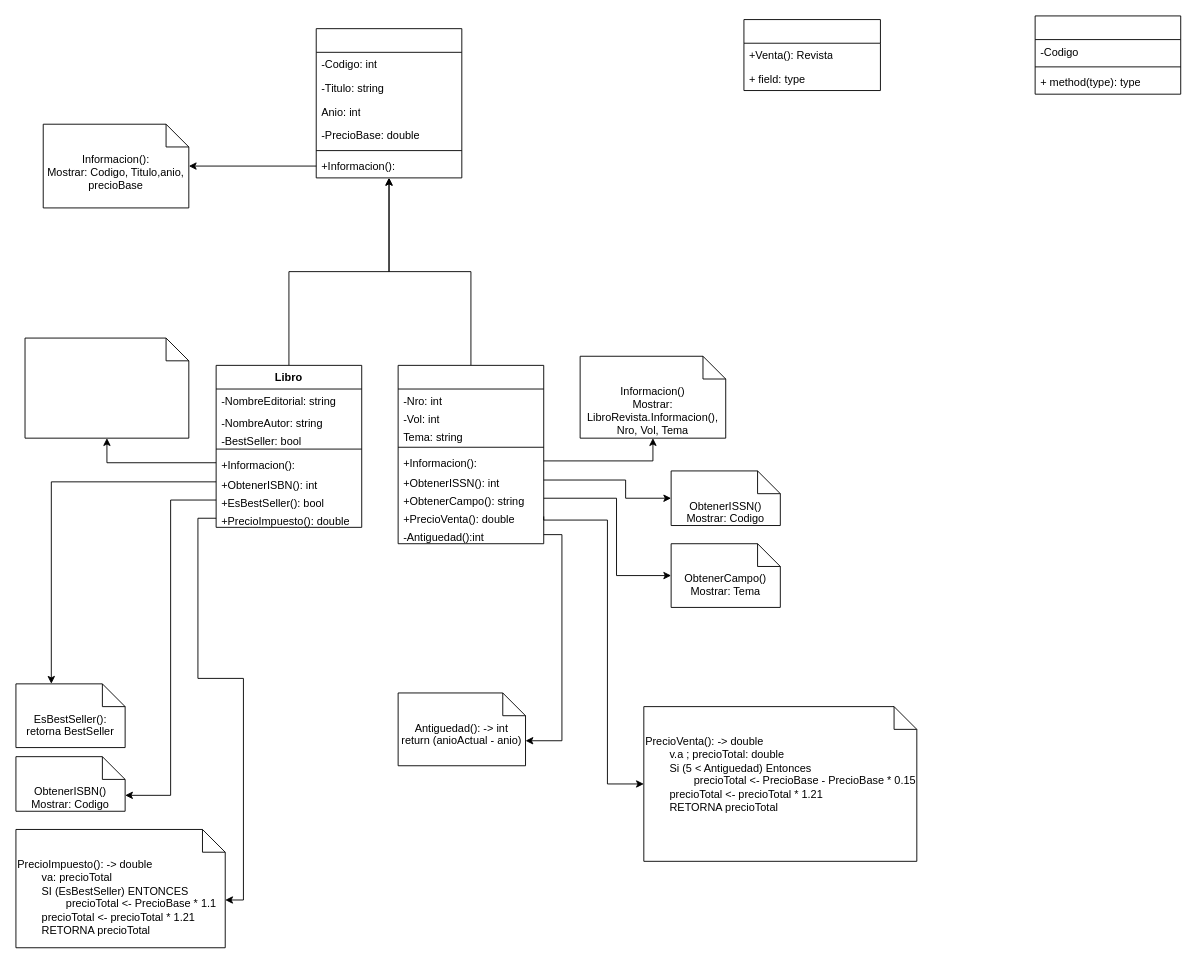
The diagram is 1197 pixels wide and 964 high, and some of its shapes have lost their labels. The shapes that lost their labels are listed below. From the top down, each one's box as (x1, y1, x2, y2) in pixels, then its label:
(743, 19, 880, 91): ParadigmaUNT
(1034, 15, 1181, 94): Venta
(315, 28, 462, 178): LibroRevista
(24, 337, 189, 438): Informacion() Mostrar: LibroRevisa.Informacion(),, NombreEditorial, NombreAutor
(397, 364, 544, 544): Revista
